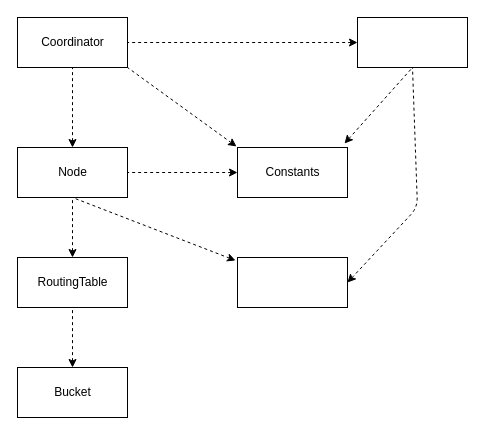
Image size: 485x435. Some labels were removed from this diagram. Each missing label, with the centre of its shape:
"Identifier" belongs at point 292,282.
"IdentifierGenerator" belongs at point 412,42.
